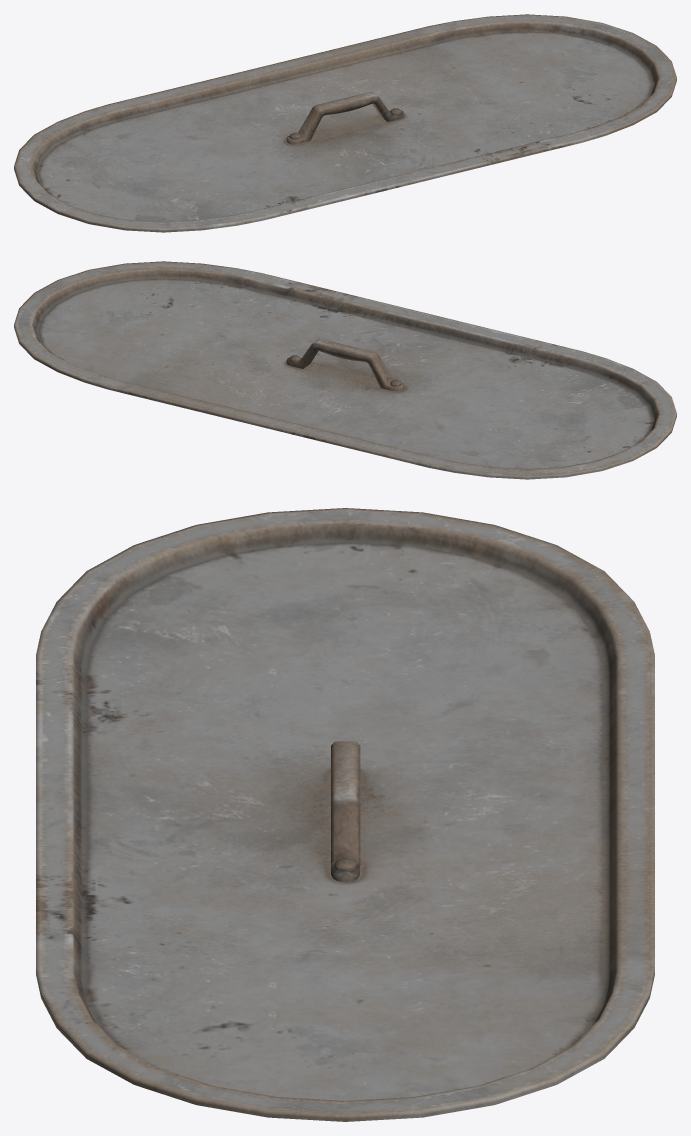
File: SM_Kitchenware01_8_LOD0.glb
The picture shows the model from 3 angles, top to bottom: view 1: azimuth 30°, elevation 25°; view 2: azimuth 150°, elevation 25°; view 3: azimuth 270°, elevation 25°; orthographic projection. The views are drawn at different scales.
Visible parts, largest first — view 1: SM_Kitchenware01_8_LOD0; view 2: SM_Kitchenware01_8_LOD0; view 3: SM_Kitchenware01_8_LOD0.
Part boxes in pixels (x1,y1,x2,y2): SM_Kitchenware01_8_LOD0: (14, 14, 676, 232); SM_Kitchenware01_8_LOD0: (14, 261, 676, 479); SM_Kitchenware01_8_LOD0: (36, 508, 654, 1121).
Bounding box in the file's own units: 0.8509 × 0.0471 × 0.3662.
Materials: 1 (1 with a texture image).
